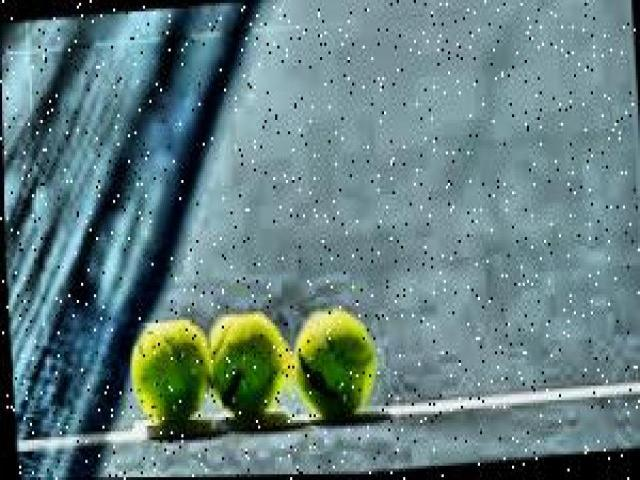tennis-ball: (290, 306, 380, 414), (125, 320, 214, 419), (208, 313, 294, 414)
